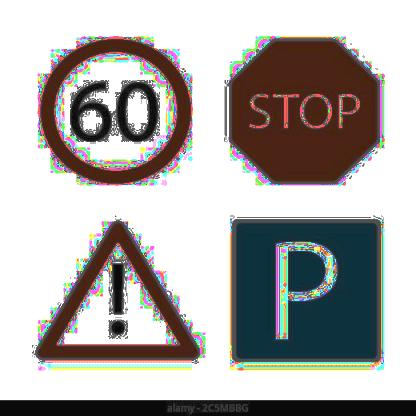Parking: (235, 220, 377, 362)
